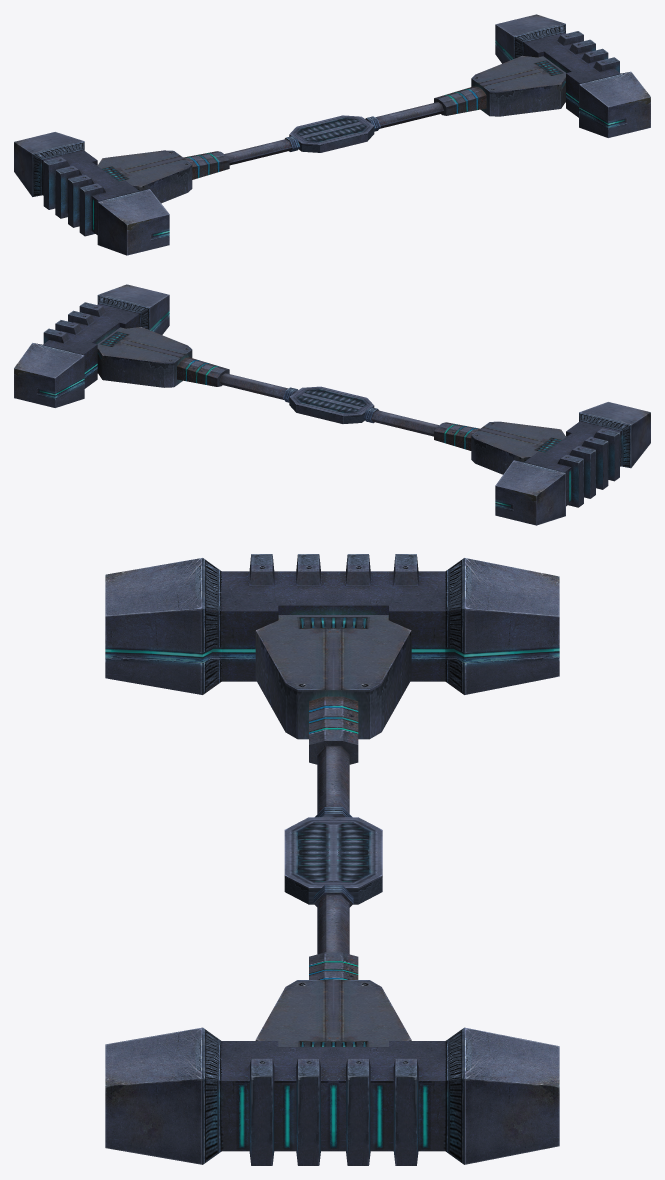
File: fb_suidao_qiao01.FBX
3 views of the same model, one above another, from view 1: azimuth 30°, elevation 25°; view 2: azimuth 150°, elevation 25°; view 3: azimuth 270°, elevation 25° (orthographic). The views are drawn at different scales.
Parts seen in each view (by area): view 1: fb_suidao_qiao01; view 2: fb_suidao_qiao01; view 3: fb_suidao_qiao01.
Part boxes in pixels (<box>): fb_suidao_qiao01: <box>14,14,650,255</box>; fb_suidao_qiao01: <box>14,284,650,525</box>; fb_suidao_qiao01: <box>105,554,559,1165</box>.
Bounding box in the file's own units: 632 × 50.51 × 232.
